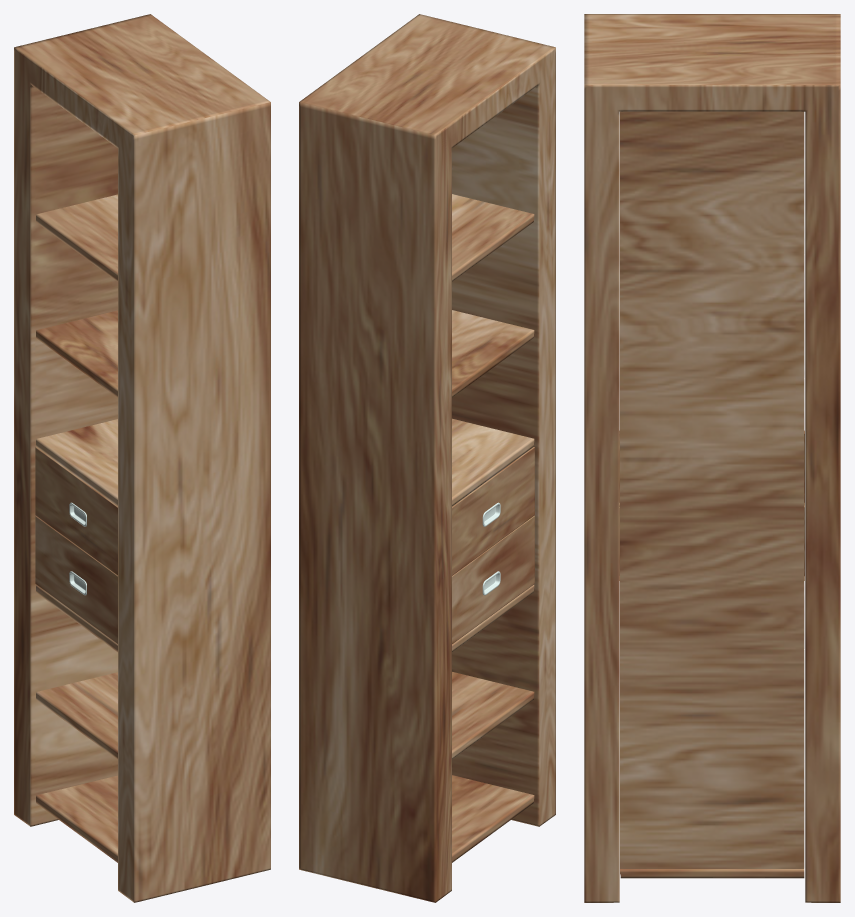
The model's file is shelve_01.obj.
3 renders of one model, left to right at view 1: azimuth 30°, elevation 25°; view 2: azimuth 150°, elevation 25°; view 3: azimuth 270°, elevation 25°, orthographic. The views are drawn at different scales.
Visible parts, largest first — view 1: shelve_01; view 2: shelve_01; view 3: shelve_01.
Boxes of the visible parts, <box> form: shelve_01: <box>14,14,270,902</box>; shelve_01: <box>299,14,555,902</box>; shelve_01: <box>584,14,840,902</box>.
Size of the model in its own units: 1.48 by 7.94 by 2.26.
